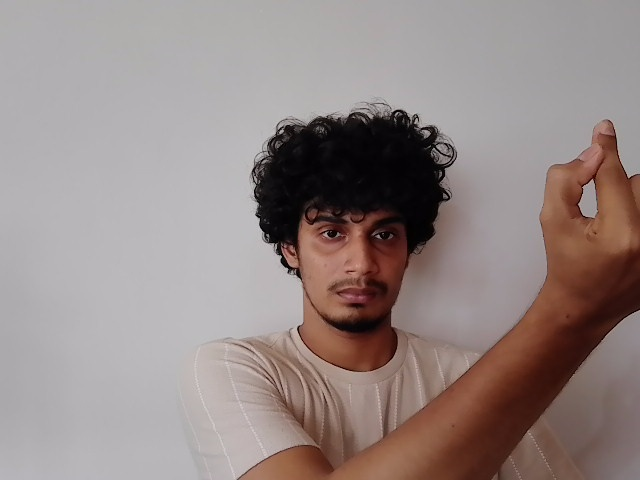just: (533, 117, 640, 320)
